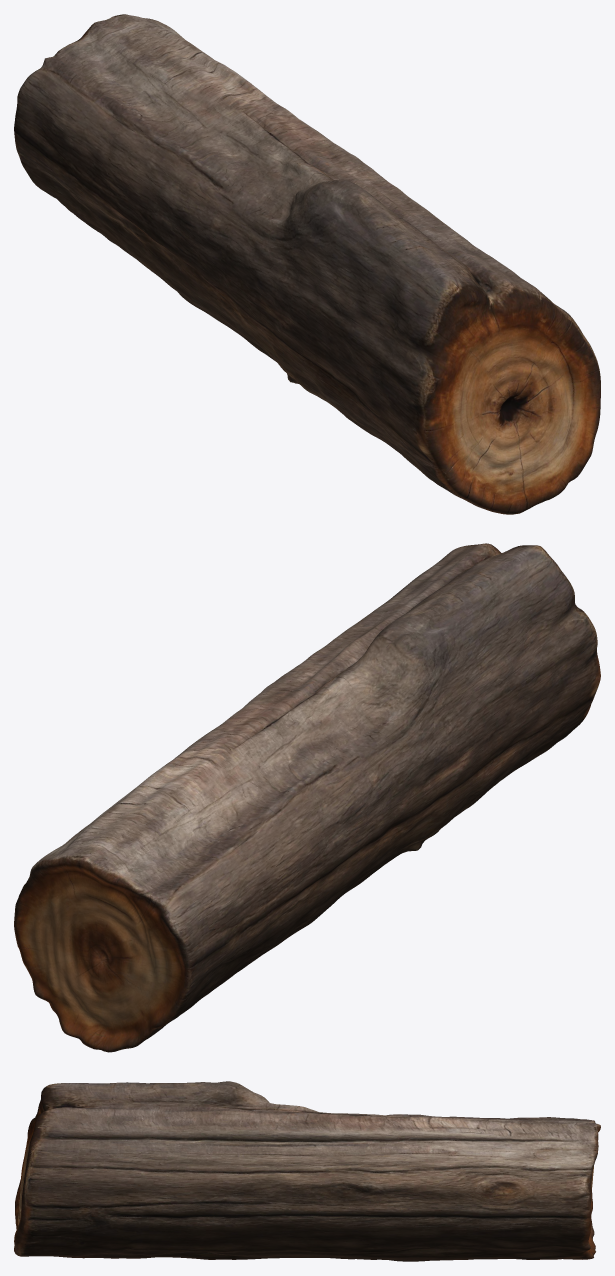
Rendered from WoodLog3.fbx.
3 views of the same model, one above another, from view 1: azimuth 30°, elevation 25°; view 2: azimuth 150°, elevation 25°; view 3: azimuth 270°, elevation 25° (orthographic). The views are drawn at different scales.
Visible parts, largest first — view 1: woodenLog2; view 2: woodenLog2; view 3: woodenLog2.
Boxes of the visible parts, box(x1,y1,x2,y2) form: woodenLog2: box(14, 14, 600, 514); woodenLog2: box(14, 543, 600, 1052); woodenLog2: box(14, 1081, 600, 1261).
Bounding box in the file's own units: 92.52 × 115 × 377.
1 material, 1 textured.
